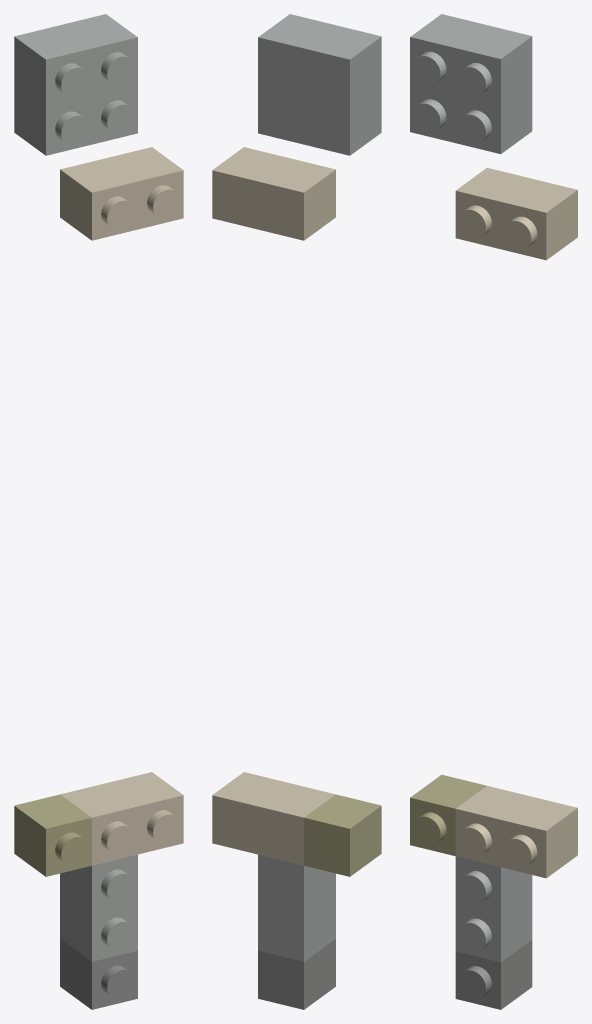
The model's file is current.glb.
3 renders of one model, left to right at view 1: azimuth 30°, elevation 25°; view 2: azimuth 150°, elevation 25°; view 3: azimuth 330°, elevation 25°, orthographic.
Visible parts, largest first — view 1: world; view 2: world; view 3: world.
Part boxes in pixels (x1=…): world: x1=14, y1=14, x2=183, y2=1009; world: x1=212, y1=14, x2=381, y2=1009; world: x1=410, y1=14, x2=577, y2=1009.
Bounding box in the file's own units: 24 × 160 × 11.4.
